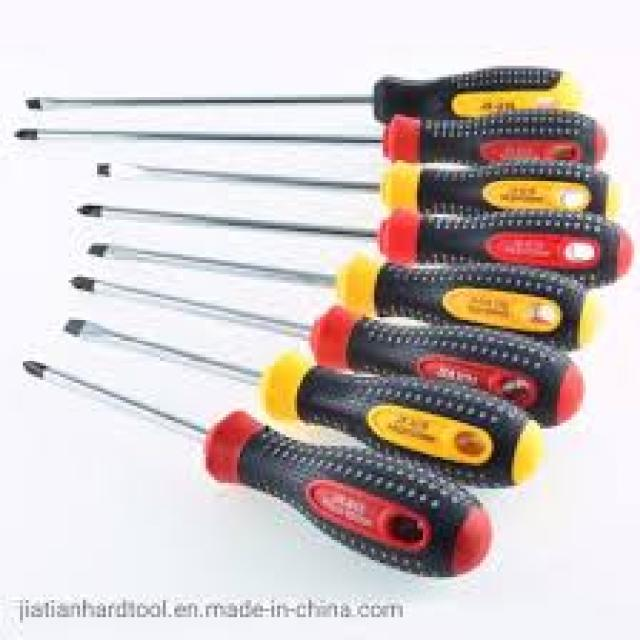screw driver: (5, 335, 562, 597), (17, 50, 586, 121), (92, 144, 623, 220)
